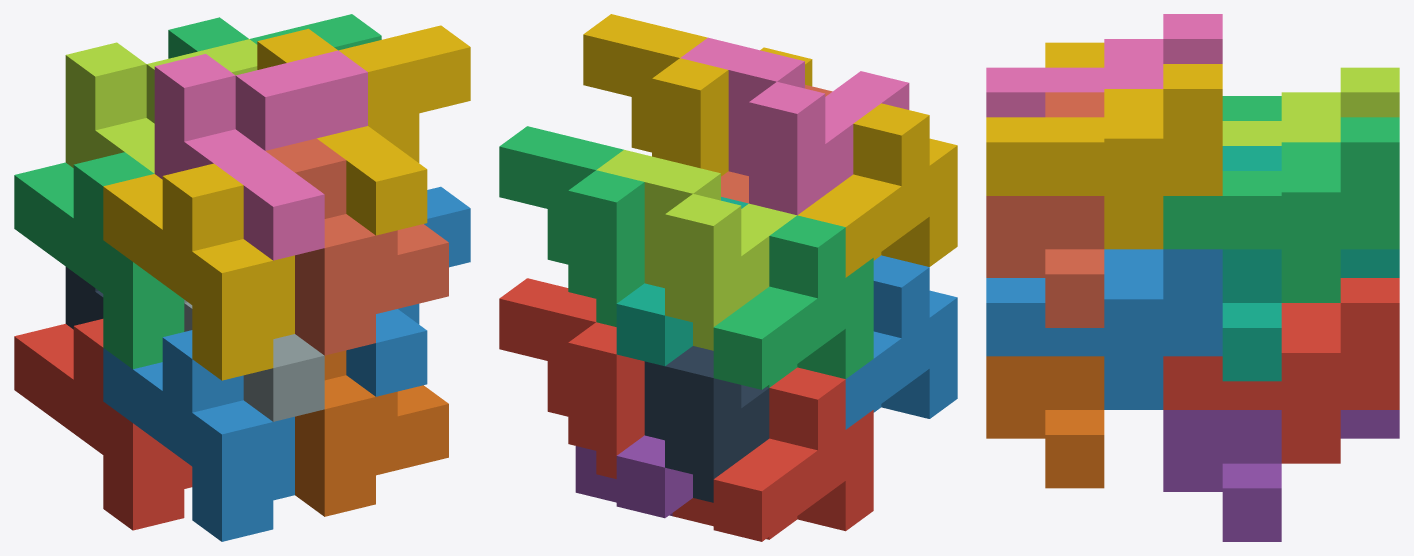
Rendered from tiling.obj.
3 views of the same model, side by side, from view 1: azimuth 30°, elevation 25°; view 2: azimuth 150°, elevation 25°; view 3: azimuth 270°, elevation 25° (orthographic). The views are drawn at different scales.
Visible parts, largest first — view 1: copy_2_domain_4, copy_1_domain_4, copy_1_domain_2, copy_2_domain_8, copy_1_domain_8, copy_1_domain_3, copy_1_domain_1, copy_1_domain_6, copy_2_domain_3, copy_2_domain_6, copy_2_domain_2, copy_2_domain_7 (+1 smaller); view 2: copy_1_domain_1, copy_2_domain_4, copy_1_domain_3, copy_2_domain_3, copy_2_domain_7, copy_1_domain_4, copy_2_domain_5, copy_2_domain_8, copy_1_domain_2, copy_2_domain_1, copy_1_domain_5, copy_1_domain_7 (+1 smaller); view 3: copy_2_domain_8, copy_2_domain_7, copy_2_domain_6, copy_2_domain_5, copy_1_domain_5, copy_1_domain_8, copy_1_domain_6, copy_1_domain_7, copy_2_domain_4, copy_2_domain_3, copy_1_domain_4, copy_1_domain_3.
Boxes of the visible parts, box(x1,y1,x2,y2) form: copy_2_domain_4: box(154, 50, 367, 260); copy_1_domain_4: box(103, 163, 294, 380); copy_1_domain_2: box(103, 330, 294, 541); copy_2_domain_8: box(257, 25, 470, 235); copy_1_domain_8: box(266, 138, 448, 355); copy_1_domain_3: box(14, 152, 184, 369); copy_1_domain_1: box(14, 319, 192, 530); copy_1_domain_6: box(295, 350, 448, 516); copy_2_domain_3: box(65, 39, 257, 173); copy_2_domain_6: box(346, 186, 470, 396); copy_2_domain_2: box(184, 300, 324, 421); copy_2_domain_7: box(168, 14, 381, 58); copy_1_domain_1: box(672, 367, 873, 541); copy_2_domain_4: box(680, 37, 909, 215); copy_1_domain_3: box(713, 215, 873, 389); copy_2_domain_3: box(596, 149, 796, 350); copy_2_domain_7: box(499, 126, 644, 326); copy_1_domain_4: box(798, 103, 957, 277); copy_2_domain_5: box(499, 278, 644, 478); copy_2_domain_8: box(583, 14, 812, 176); copy_1_domain_2: box(845, 255, 957, 429); copy_2_domain_1: box(644, 346, 769, 502); copy_1_domain_5: box(575, 435, 692, 518); copy_1_domain_7: box(616, 197, 748, 366); copy_2_domain_8: box(986, 64, 1222, 249); copy_2_domain_7: box(1163, 117, 1399, 302); copy_2_domain_6: box(986, 249, 1222, 409); copy_2_domain_5: box(1163, 278, 1399, 463); copy_1_domain_5: box(1163, 410, 1399, 541); copy_1_domain_8: box(986, 92, 1104, 327); copy_1_domain_6: box(986, 356, 1104, 488); copy_1_domain_7: box(1222, 146, 1399, 381); copy_2_domain_4: box(986, 14, 1222, 117); copy_2_domain_3: box(1222, 67, 1399, 145); copy_1_domain_4: box(1045, 42, 1104, 67); copy_1_domain_3: box(1222, 96, 1281, 120).
Size of the model in its own units: 6 by 8 by 7.
